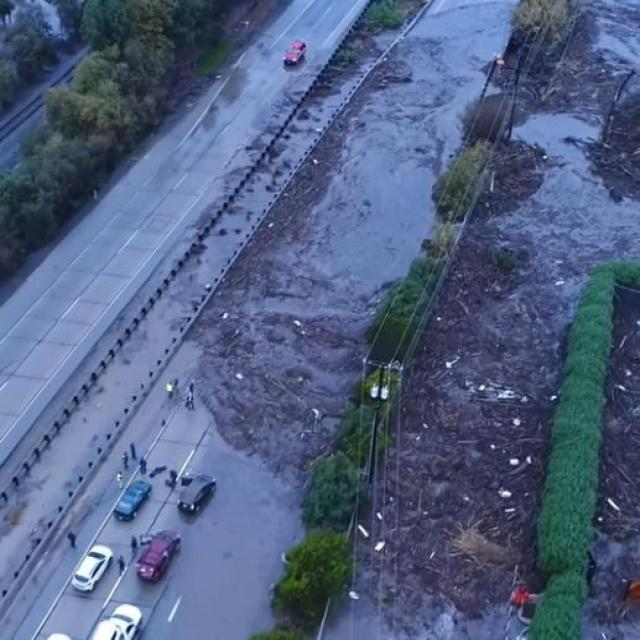traffic_incident: (252, 46, 638, 593)
